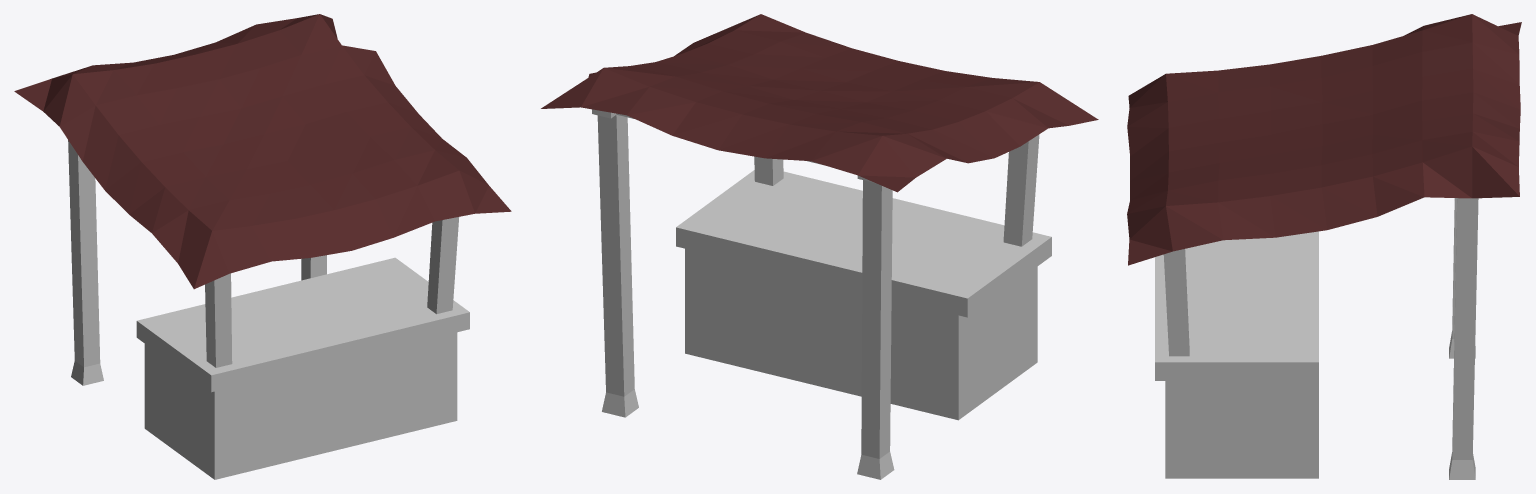
Rendered from Market_Stall_01.obj.
3 views of the same model, side by side, from view 1: azimuth 30°, elevation 25°; view 2: azimuth 150°, elevation 25°; view 3: azimuth 270°, elevation 25° (orthographic). The views are drawn at different scales.
Visible parts, largest first — view 1: Grid, Cube_Cube.001; view 2: Cube_Cube.001, Grid; view 3: Grid, Cube_Cube.001.
Part boxes in pixels (x1,y1,x2,y2): Grid: (14,14,511,289); Cube_Cube.001: (68,140,469,479); Cube_Cube.001: (592,109,1051,479); Grid: (541,14,1098,192); Grid: (1127,14,1521,265); Cube_Cube.001: (1155,198,1478,479).
Bounding box in the file's own units: 3.94 × 3.59 × 3.85.
